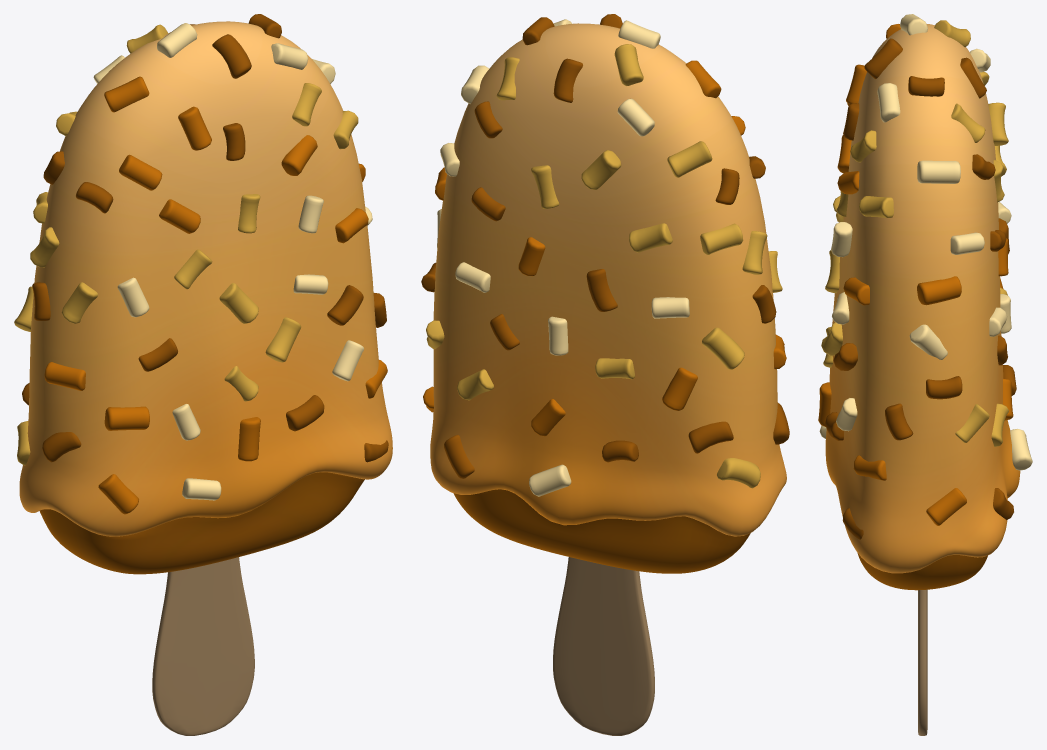
File: Project Name.gltf
3 renders of one model, left to right at view 1: azimuth 30°, elevation 25°; view 2: azimuth 150°, elevation 25°; view 3: azimuth 270°, elevation 25°, orthographic. The views are drawn at different scales.
Visible parts, largest first — view 1: Cinnamon frosting, Stick, Chocolate ice cream, Cinnamon chips, Milk chocolate chips, Dark chocolate chips, White chocolate chips; view 2: Cinnamon frosting, Stick, Chocolate ice cream, Milk chocolate chips, Dark chocolate chips, White chocolate chips, Cinnamon chips; view 3: Cinnamon frosting, White chocolate chips, Dark chocolate chips, Milk chocolate chips, Cinnamon chips, Chocolate ice cream, Stick.
Part boxes in pixels (bbox=[...]): Cinnamon frosting: bbox=[19, 21, 392, 536]; Stick: bbox=[152, 557, 254, 735]; Chocolate ice cream: bbox=[39, 472, 364, 574]; Cinnamon chips: bbox=[44, 76, 387, 514]; Milk chocolate chips: bbox=[14, 24, 358, 465]; Dark chocolate chips: bbox=[22, 14, 388, 462]; White chocolate chips: bbox=[93, 23, 372, 500]; Cinnamon frosting: bbox=[430, 23, 786, 536]; Stick: bbox=[553, 557, 654, 735]; Chocolate ice cream: bbox=[453, 489, 750, 573]; Milk chocolate chips: bbox=[426, 44, 782, 488]; Dark chocolate chips: bbox=[421, 14, 789, 478]; White chocolate chips: bbox=[437, 19, 689, 496]; Cinnamon chips: bbox=[423, 60, 786, 436]; Cinnamon frosting: bbox=[825, 24, 1020, 573]; White chocolate chips: bbox=[819, 14, 1032, 470]; Dark chocolate chips: bbox=[825, 38, 1016, 539]; Milk chocolate chips: bbox=[821, 20, 1008, 446]; Cinnamon chips: bbox=[818, 24, 1013, 525]; Chocolate ice cream: bbox=[857, 553, 987, 590]; Stick: bbox=[918, 589, 927, 735].
Size of the model in its own units: 0.0909 by 0.1805 by 0.05.
7 materials, 2 textured.
